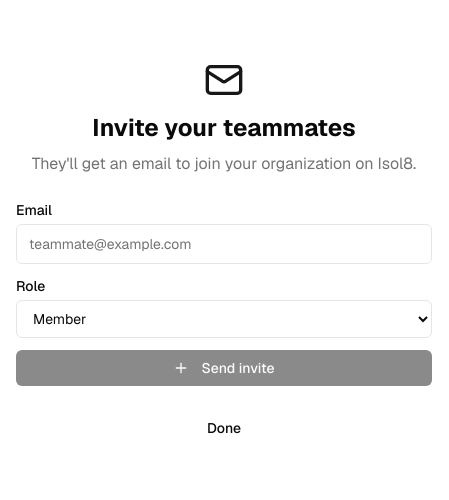
InviteTeammatesStep › renders the 409 personal_user_exists message inline
In the field labelled "Email": {"x": 224, "y": 244} x1=16 y1=224 x2=432 y2=264, type "subscriber@example.com"
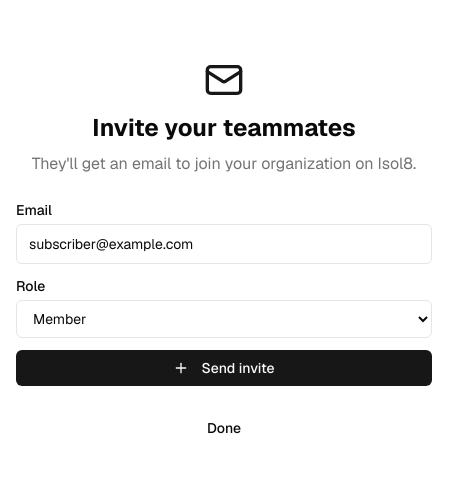
Click the button "Send invite": {"x": 224, "y": 368} x1=16 y1=350 x2=432 y2=386
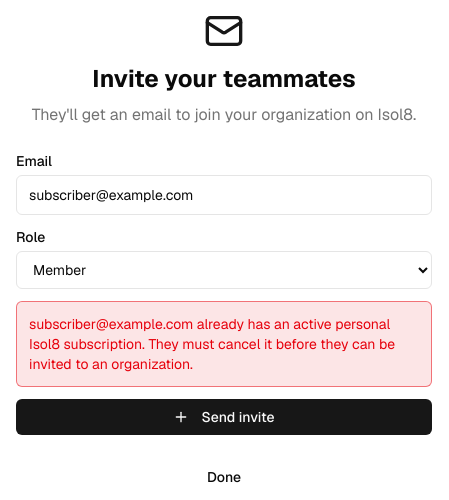
Check: the text "already has an active personal Isol8 subscription" is shown, box x1=29 y1=315 x2=395 y2=373
